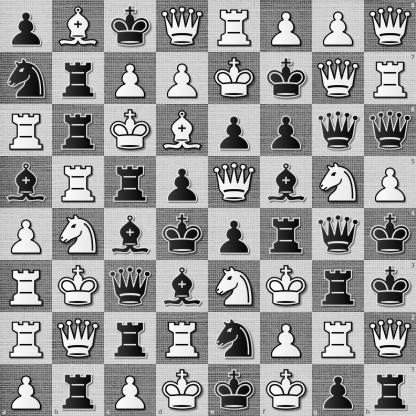B: (53, 1, 104, 52), (157, 105, 208, 156)
K: (156, 364, 209, 416), (260, 364, 312, 416), (53, 261, 104, 312), (105, 105, 156, 156), (209, 53, 260, 104), (261, 261, 312, 312)
N: (53, 209, 104, 260), (209, 261, 260, 312), (313, 157, 364, 208)
P: (364, 156, 416, 209), (0, 364, 52, 416), (104, 364, 156, 416), (1, 209, 52, 260), (105, 53, 156, 104), (157, 53, 208, 104), (261, 1, 312, 52), (261, 313, 312, 364), (313, 1, 364, 52)
Q: (364, 0, 416, 52), (364, 312, 416, 364), (53, 313, 104, 364), (157, 1, 208, 52), (209, 157, 260, 208), (313, 53, 364, 104)
R: (364, 52, 416, 104), (1, 105, 52, 156), (1, 261, 52, 312), (1, 313, 52, 364), (53, 157, 104, 208), (157, 313, 208, 364), (209, 1, 260, 52), (313, 313, 364, 364)
b: (1, 157, 52, 208), (105, 209, 156, 260), (157, 261, 208, 312), (261, 157, 312, 208)
board: (0, 0, 415, 415)
k: (364, 260, 416, 312), (209, 364, 260, 416), (364, 209, 416, 260), (105, 1, 156, 52), (157, 209, 208, 260), (261, 53, 312, 104)
n: (1, 53, 52, 104), (209, 313, 260, 364)
p: (312, 364, 364, 416), (1, 1, 52, 52), (157, 157, 208, 208), (209, 105, 260, 156), (209, 209, 260, 260), (261, 105, 312, 156)
q: (364, 104, 416, 156), (105, 261, 156, 312), (313, 105, 364, 156), (313, 209, 364, 260)
r: (52, 364, 104, 416), (364, 364, 416, 416), (53, 53, 104, 104), (53, 105, 104, 156), (105, 157, 156, 208), (105, 313, 156, 364), (261, 209, 312, 260), (313, 261, 364, 312)
